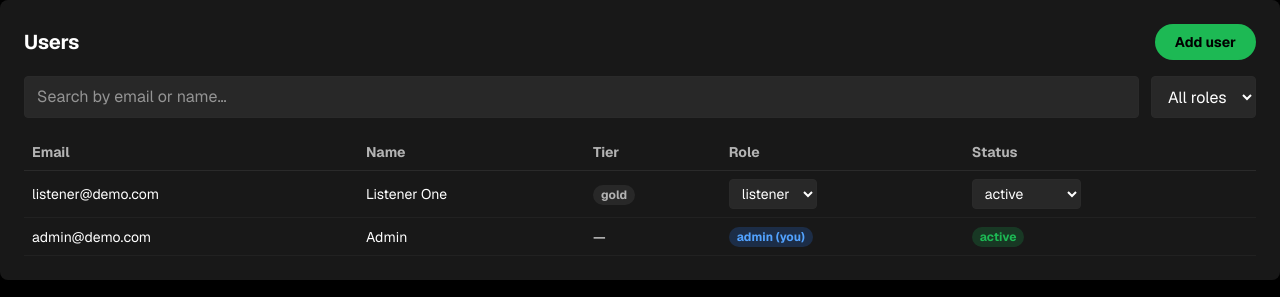
UserManagement › filters the roster by role
Expected: the text "listener@demo.com" is shown, [24,170,358,218]
Select "admin" in the dropdown named "Filter by role" at (1204,97), box [1151,76,1256,118]
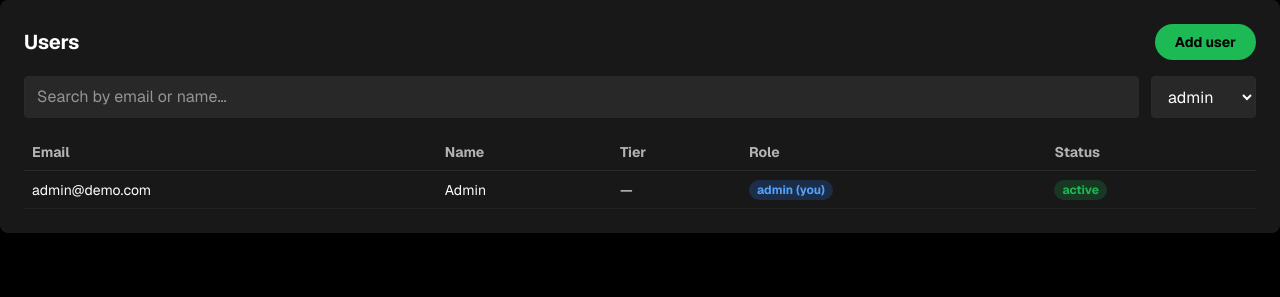
Expected: the text "admin@demo.com" is shown, [24,170,437,208]
Expected: the text "listener@demo.com" is gone
